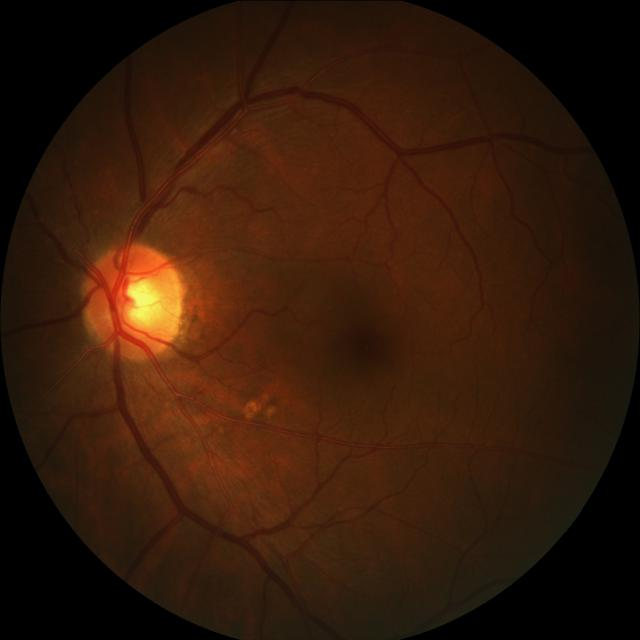OC: (108, 274, 163, 330)
OD: (81, 241, 184, 360)
